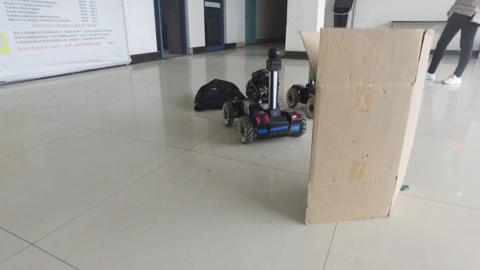box: (311, 24, 410, 228)
chariot: (228, 51, 306, 142)
